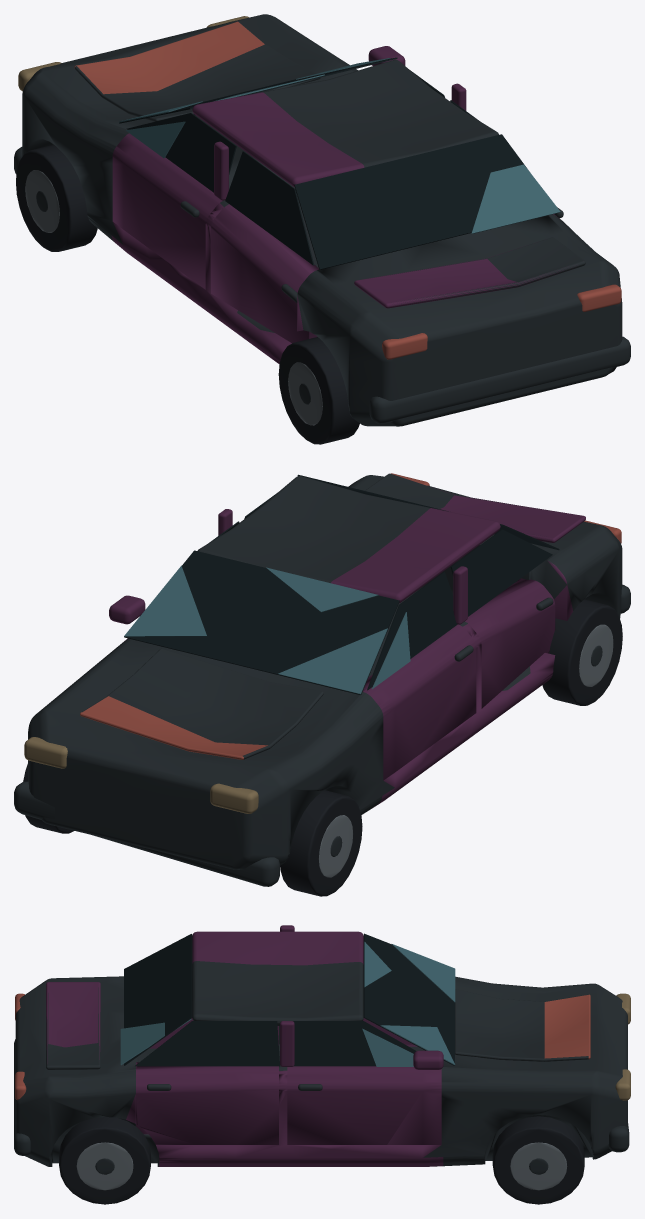
The model's file is vehicle_wrecks_01.glb.
The picture shows the model from 3 angles, top to bottom: view 1: azimuth 30°, elevation 25°; view 2: azimuth 150°, elevation 25°; view 3: azimuth 270°, elevation 25°; orthographic projection. The views are drawn at different scales.
Visible parts, largest first — view 1: VehicleWrecks01_Mesh; view 2: VehicleWrecks01_Mesh; view 3: VehicleWrecks01_Mesh.
Part boxes in pixels (x1,y1,x2,y2): VehicleWrecks01_Mesh: (14, 14, 630, 444); VehicleWrecks01_Mesh: (14, 473, 630, 896); VehicleWrecks01_Mesh: (14, 925, 630, 1204).
Size of the model in its own units: 1.93 by 1.34 by 4.28.
